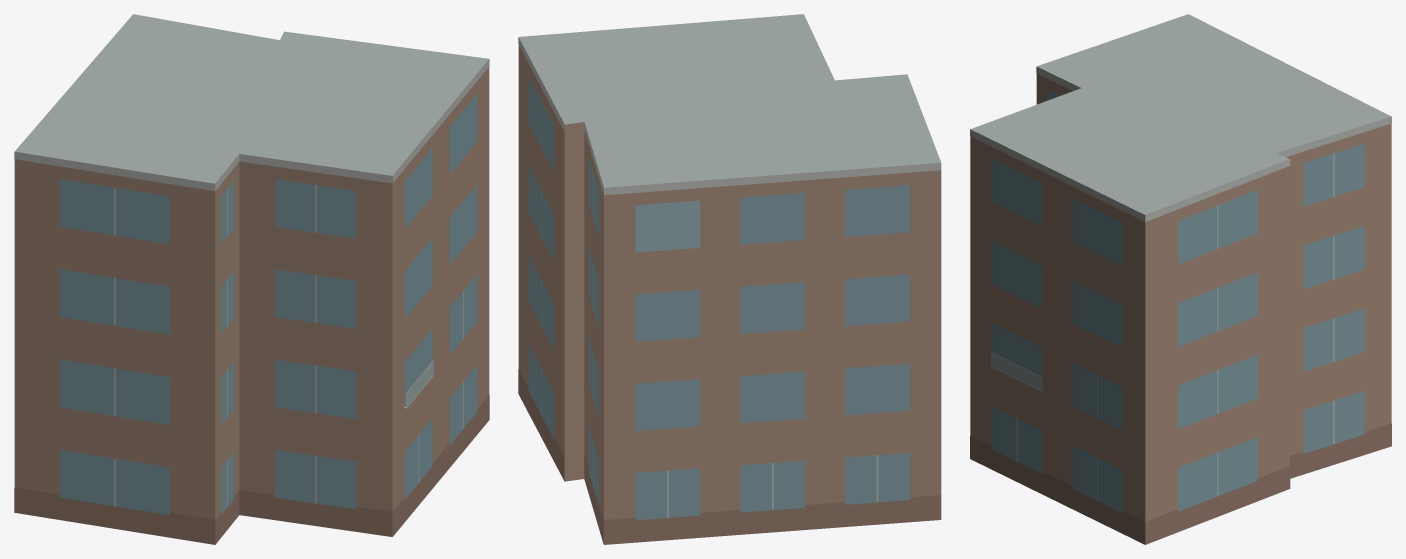
Rendered from survey-upis-33019297.glb.
3 renders of one model, left to right at view 1: azimuth 30°, elevation 25°; view 2: azimuth 150°, elevation 25°; view 3: azimuth 270°, elevation 25°, orthographic. The views are drawn at different scales.
Parts seen in each view (by area): view 1: survey-upis-33019297.tmp; view 2: survey-upis-33019297.tmp; view 3: survey-upis-33019297.tmp.
Part boxes in pixels (x1,y1,x2,y2): survey-upis-33019297.tmp: (14, 14, 489, 544); survey-upis-33019297.tmp: (518, 14, 941, 544); survey-upis-33019297.tmp: (970, 14, 1391, 544).
Size of the model in its own units: 15.38 by 11.75 by 13.62.
